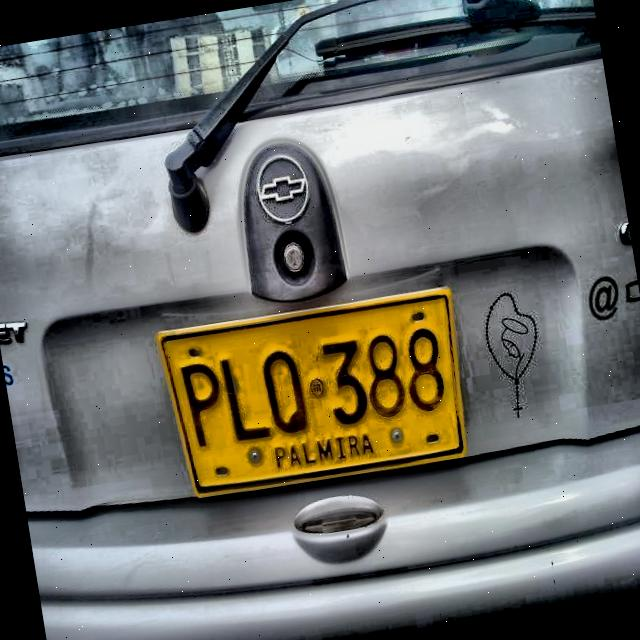3: (320, 338, 373, 428)
8: (398, 325, 449, 415), (360, 332, 410, 421)
L: (219, 353, 275, 443)
P: (178, 360, 232, 449)
Q: (257, 346, 315, 439)
